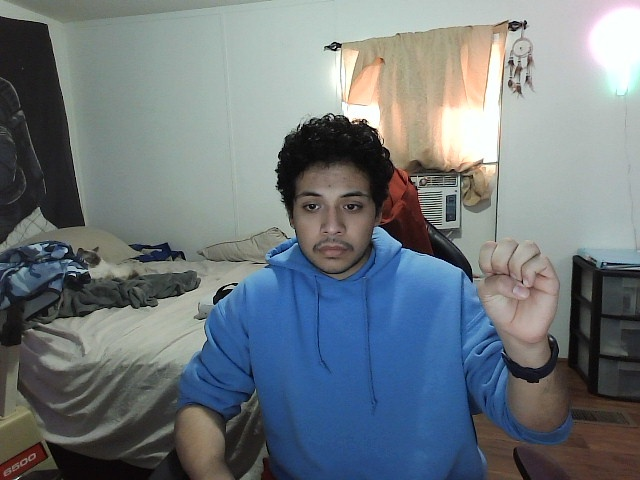E: (474, 237, 562, 347)
